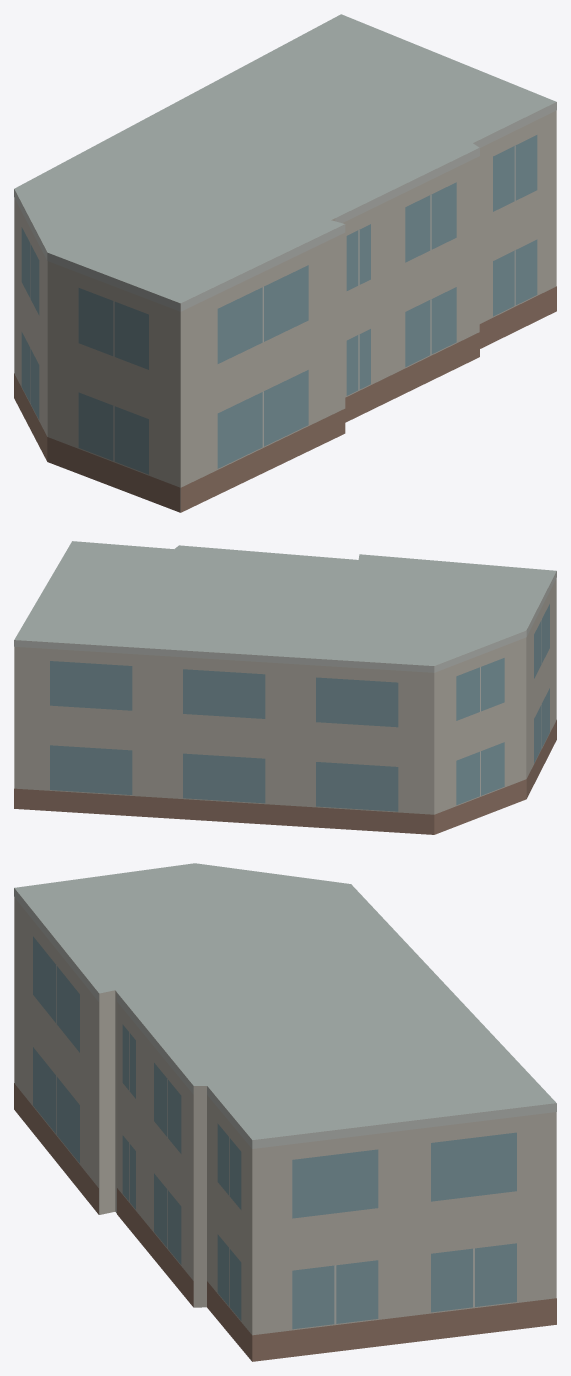
Rendered from survey-upis-32779161.glb.
3 renders of one model, top to bottom at view 1: azimuth 30°, elevation 25°; view 2: azimuth 150°, elevation 25°; view 3: azimuth 270°, elevation 25°, orthographic. The views are drawn at different scales.
Visible parts, largest first — view 1: survey-upis-32779161.tmp; view 2: survey-upis-32779161.tmp; view 3: survey-upis-32779161.tmp.
Boxes of the visible parts, bbox=[...] form: survey-upis-32779161.tmp: bbox=[14, 14, 556, 512]; survey-upis-32779161.tmp: bbox=[14, 541, 556, 834]; survey-upis-32779161.tmp: bbox=[14, 863, 556, 1361].
Bounding box in the file's own units: 16.37 × 6.1 × 13.55.
